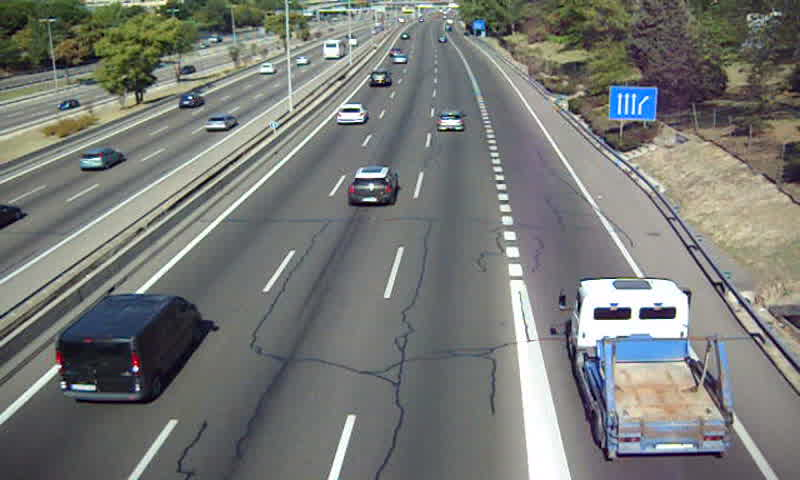car: (347, 165, 399, 206), (334, 104, 367, 125), (436, 110, 464, 133), (367, 70, 391, 88), (391, 54, 409, 67)
small-truck: (573, 280, 733, 458)
van: (53, 293, 201, 403)
